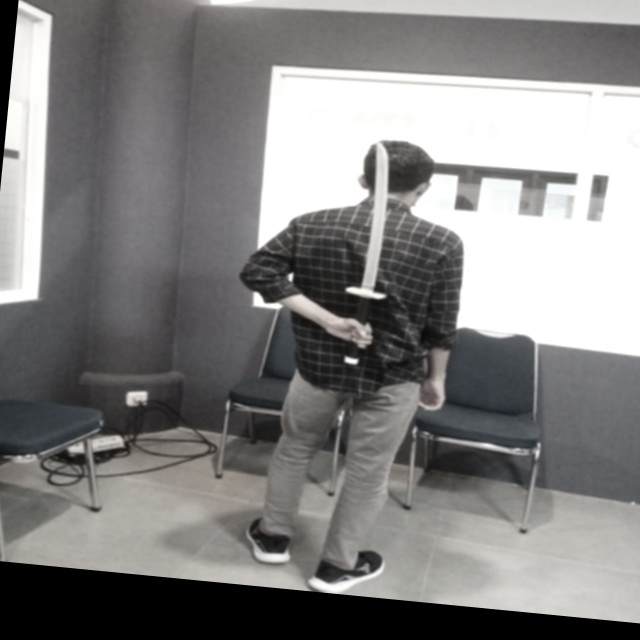Sharp-Object: (322, 137, 418, 378)
